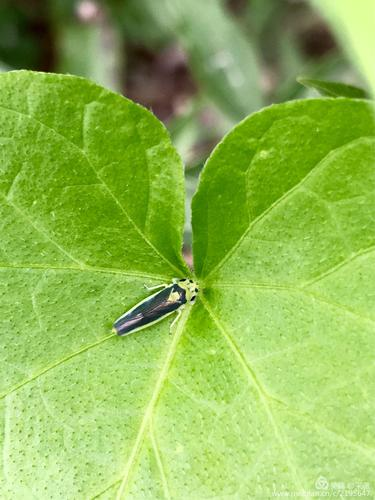Cicadellidae: (110, 274, 199, 338)
